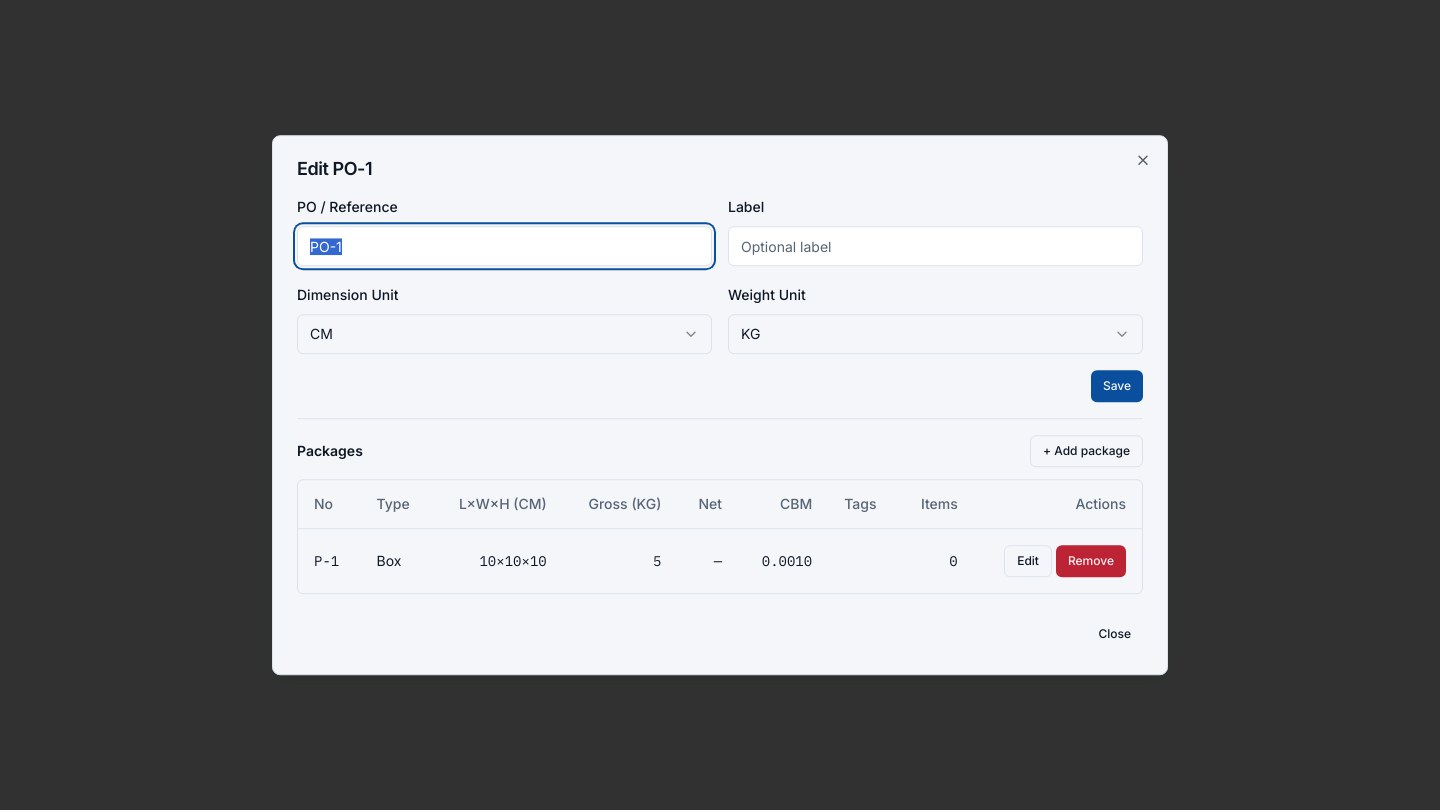
Test: CargoPopup (Task 13 save-flow) › Edit mode: package shows as a compact row that expands to edit; Add suggests the next query-wide packageNo
Expected: the text "P-1" is shown, [298,528,360,593]
Step 1. Click the button "+ Add package" → (1086, 451), box [1030,435,1143,467]
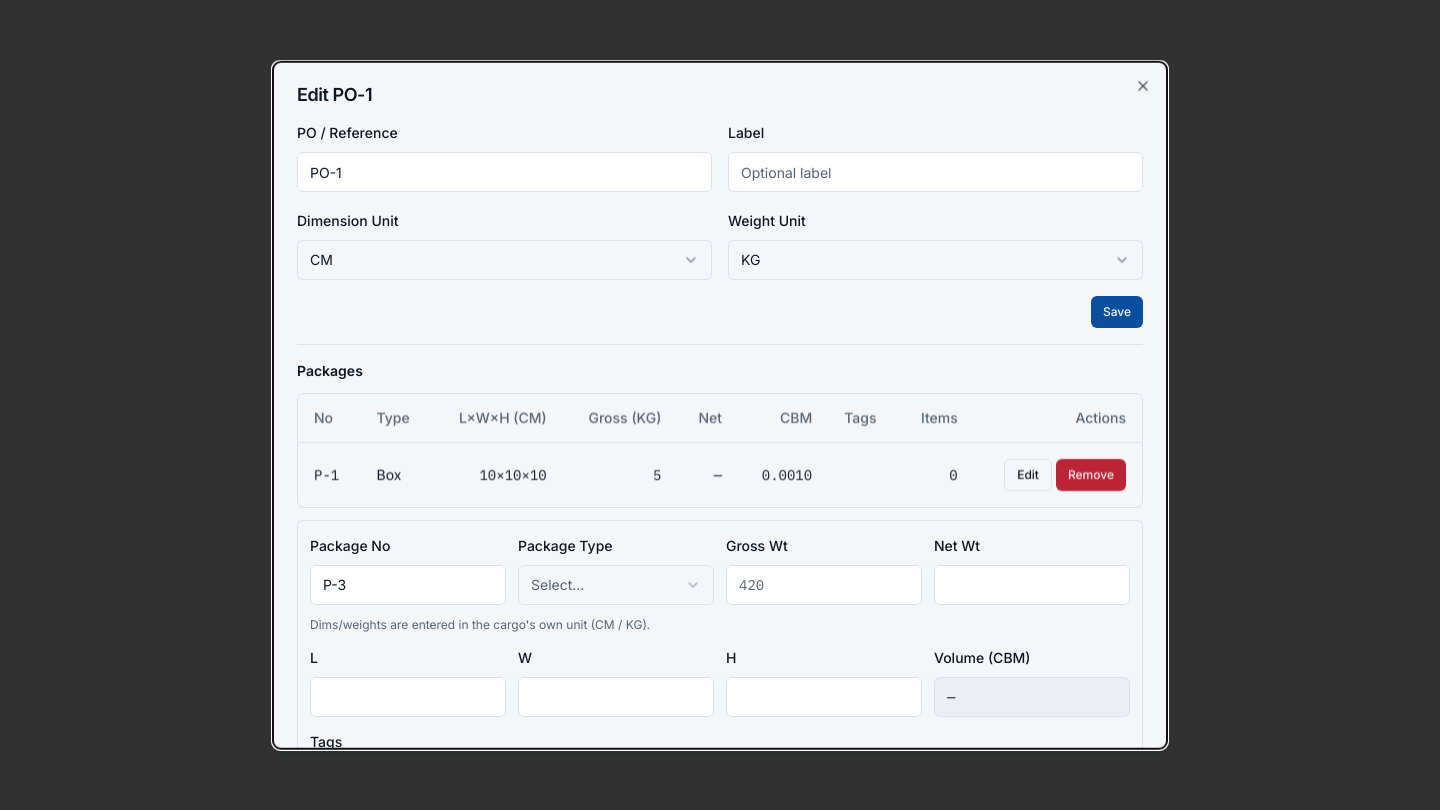
Expected: the field labelled "Package No" holds "P-3", [310,564,506,604]
Editing the row expands it into the full package editor in place.
Step 2. Click the button "Edit" → (1028, 474), box [1004,458,1052,490]
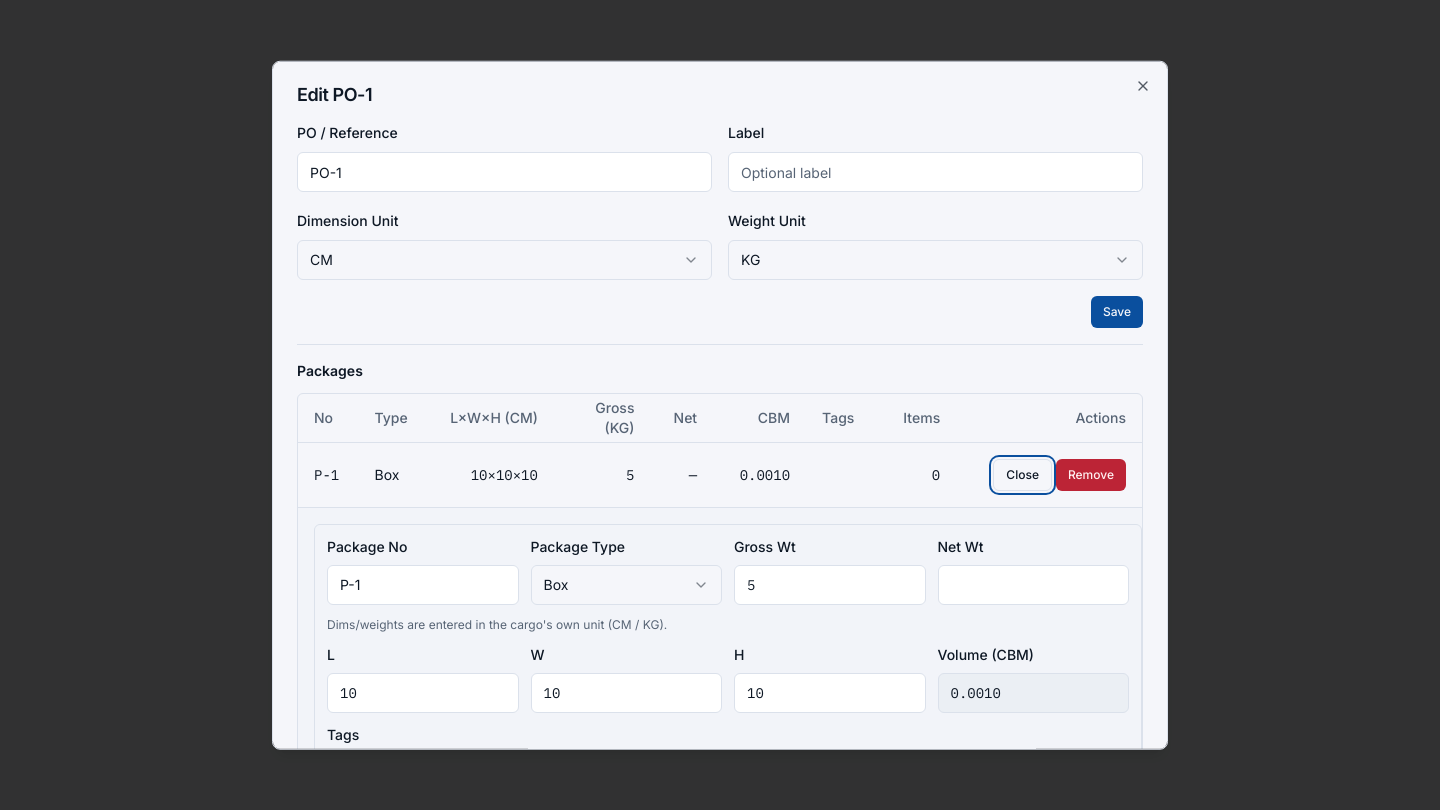
Expected: the field showing "P-1" is shown, [327,564,518,604]
